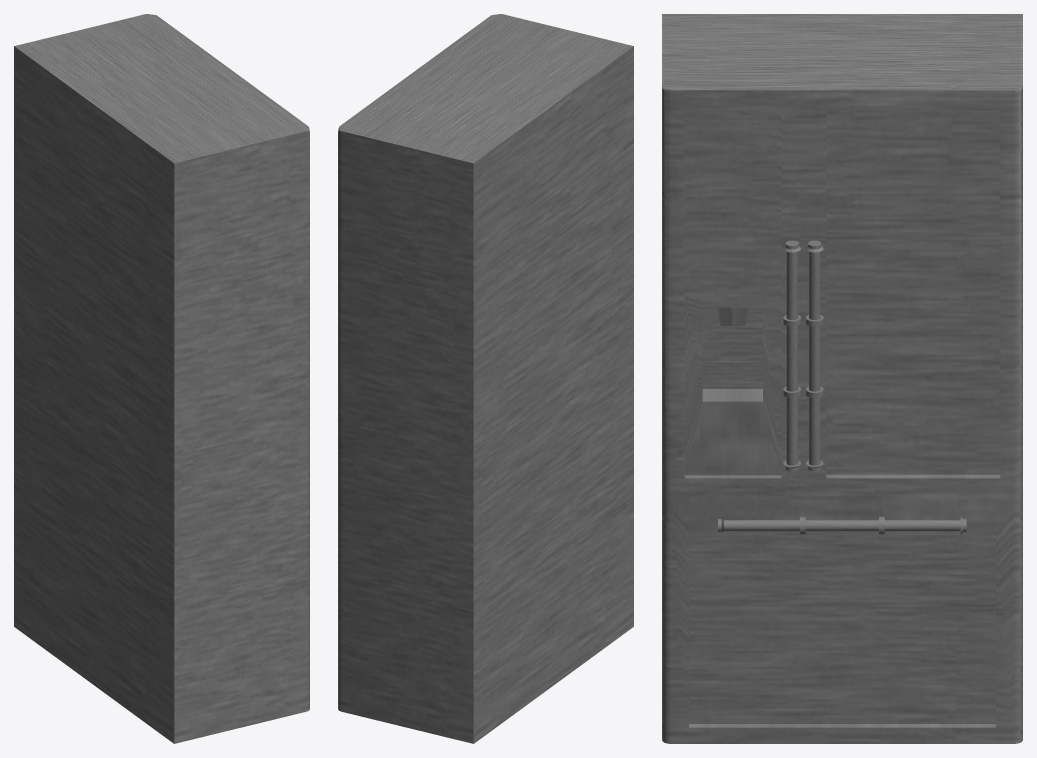
File: Fridge.fbx
3 views of the same model, side by side, from view 1: azimuth 30°, elevation 25°; view 2: azimuth 150°, elevation 25°; view 3: azimuth 270°, elevation 25° (orthographic). The views are drawn at different scales.
Visible parts, largest first — view 1: Fridge; view 2: Fridge; view 3: Fridge.
Boxes of the visible parts, left/top/right/bottom form: Fridge: left=14, top=14, right=309, bottom=743; Fridge: left=338, top=14, right=633, bottom=743; Fridge: left=662, top=14, right=1022, bottom=743.
Size of the model in its own units: 225 by 800 by 400.
